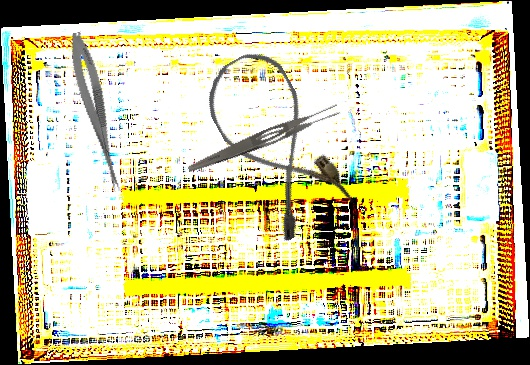Cannula: (192, 41, 358, 245)
Dressing Forceps: (185, 100, 343, 180)
Micro Scissor: (62, 29, 132, 195)
